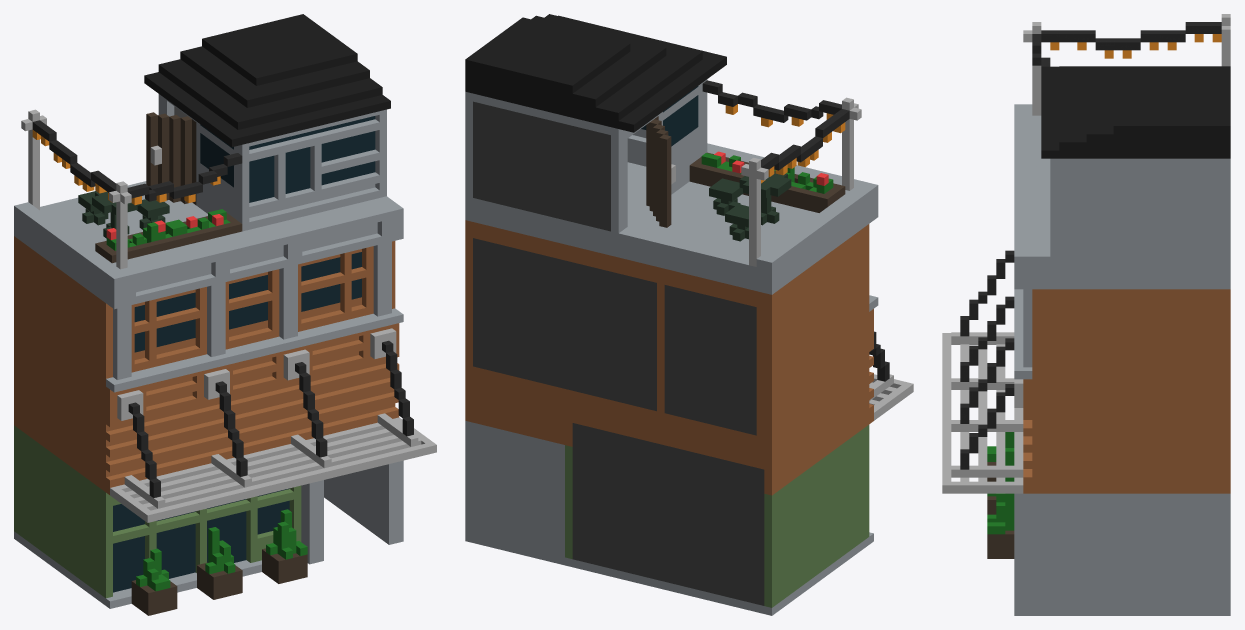
Rendered from modernbuilding.obj.
The picture shows the model from 3 angles, left to right: view 1: azimuth 30°, elevation 25°; view 2: azimuth 150°, elevation 25°; view 3: azimuth 270°, elevation 25°; orthographic projection. The views are drawn at different scales.
Bounding box in the file's own units: 4 × 6 × 3.2.
Materials: 1 (1 with a texture image).
